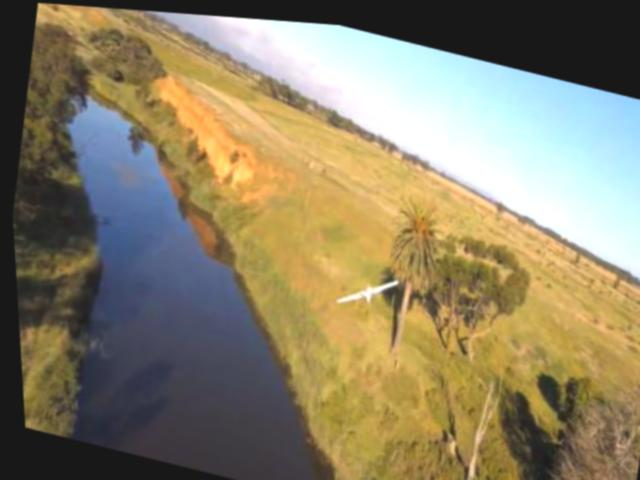uav: (330, 258, 399, 313)
